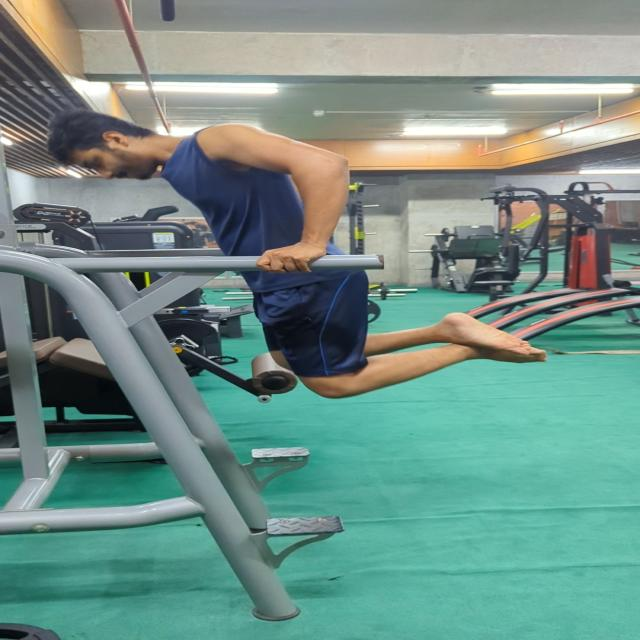Normal_Dips: (41, 93, 566, 405)
